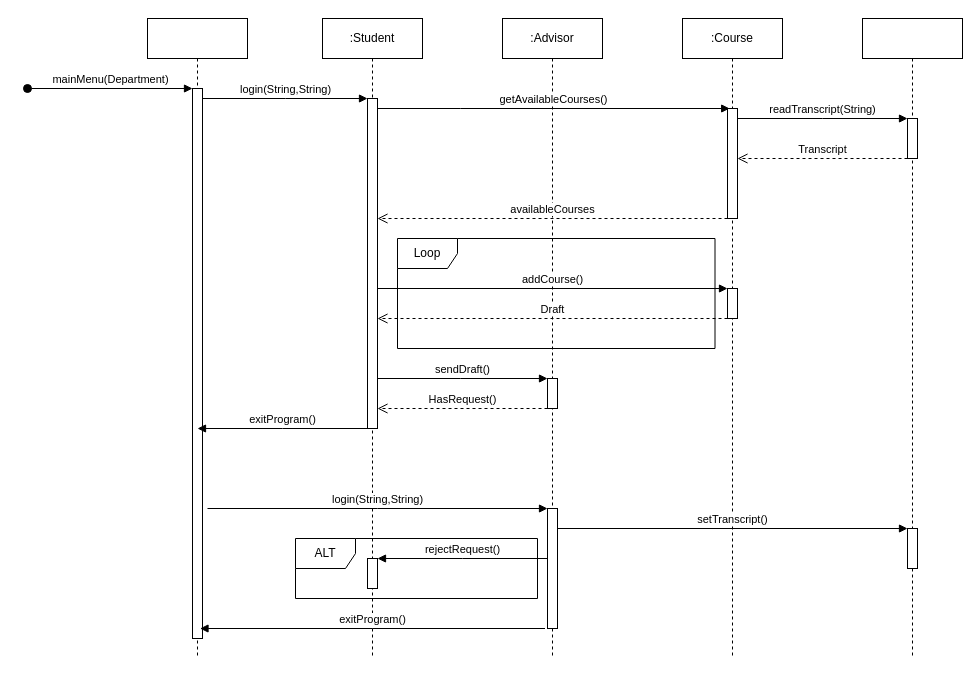
Image size: 980x676. Some labels were removed from this diagram. Each missing label, with the box of its shape:
:Course Registration System: (146, 18, 248, 658)
:Transcript: (862, 18, 962, 658)
